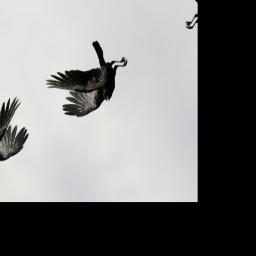Crow: (39, 29, 141, 130)
